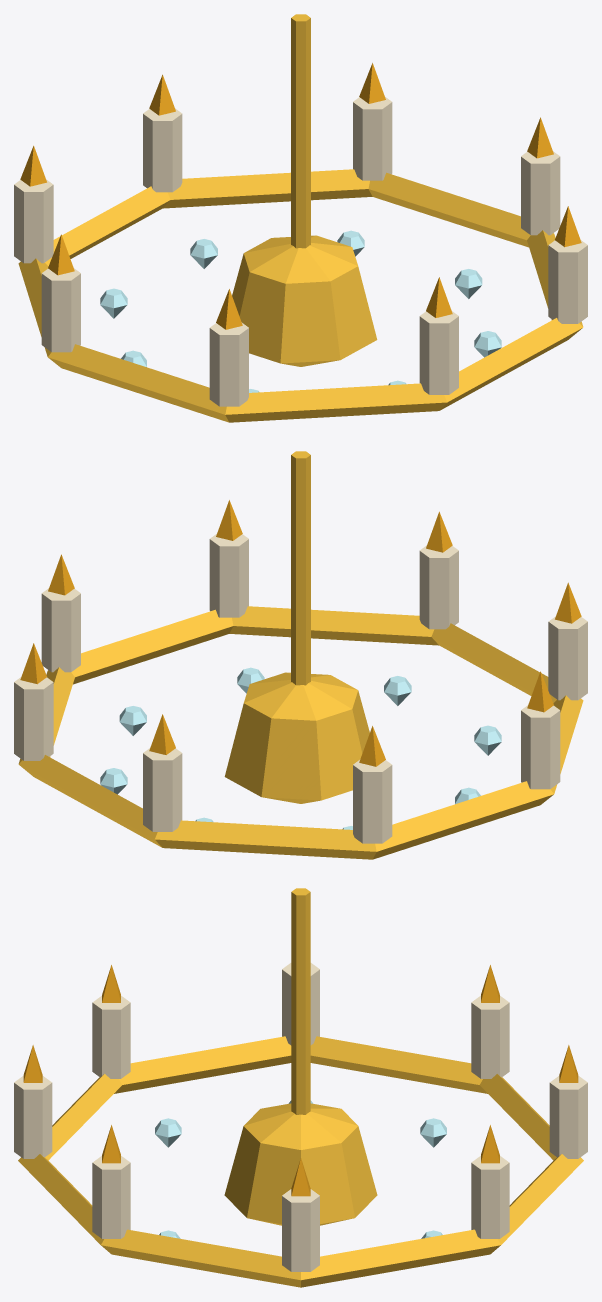
Rendered from Chandelier.fbx.
3 renders of one model, top to bottom at view 1: azimuth 30°, elevation 25°; view 2: azimuth 150°, elevation 25°; view 3: azimuth 270°, elevation 25°, orthographic. The views are drawn at different scales.
Visible parts, largest first — view 1: Chandelier; view 2: Chandelier; view 3: Chandelier.
Boxes of the visible parts, x1,y1,x2,y2 form: Chandelier: (14, 14, 587, 422); Chandelier: (14, 451, 587, 859); Chandelier: (14, 888, 587, 1287).
Bounding box in the file's own units: 2.97 × 1.95 × 3.
Materials: 1 (1 with a texture image).
